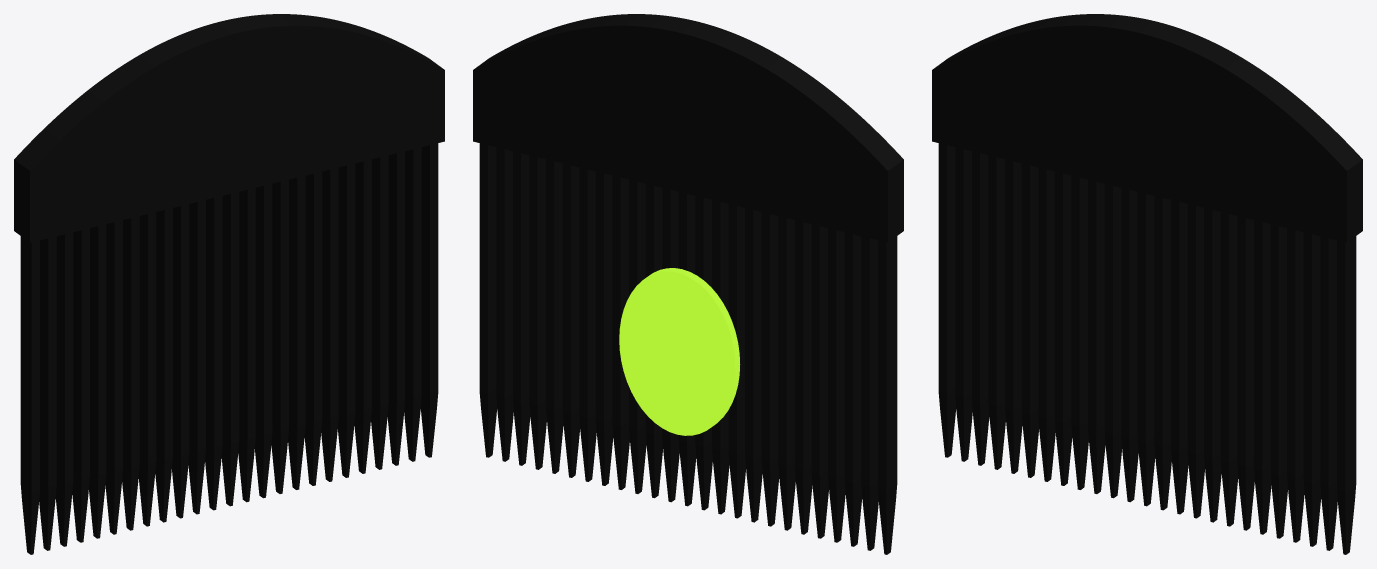
3 views of the same model, side by side, from view 1: azimuth 30°, elevation 25°; view 2: azimuth 150°, elevation 25°; view 3: azimuth 330°, elevation 25° (orthographic).
Parts seen in each view (by area): view 1: kushi_spine, kushi_tooth01, kushi_tooth25, kushi_tooth03, kushi_tooth15, kushi_tooth20, kushi_tooth08, kushi_tooth13, kushi_tooth18, kushi_tooth07, kushi_tooth02, kushi_tooth04 (+14 smaller); view 2: kushi_spine, kushi_light, kushi_tooth01, kushi_tooth25, kushi_tooth03, kushi_tooth20, kushi_tooth08, kushi_tooth18, kushi_tooth07, kushi_tooth02, kushi_tooth04, kushi_tooth09 (+15 smaller); view 3: kushi_spine, kushi_tooth25, kushi_tooth01, kushi_tooth06, kushi_tooth11, kushi_tooth23, kushi_tooth18, kushi_tooth08, kushi_tooth13, kushi_tooth19, kushi_tooth09, kushi_tooth14 (+14 smaller).
Boxes of the visible parts, x1,y1,x2,y2 form: kushi_spine: [14, 14, 444, 242]; kushi_tooth01: [20, 236, 39, 554]; kushi_tooth25: [420, 143, 438, 457]; kushi_tooth03: [55, 232, 73, 546]; kushi_tooth15: [255, 184, 272, 498]; kushi_tooth20: [337, 163, 355, 477]; kushi_tooth08: [138, 212, 156, 526]; kushi_tooth13: [221, 192, 239, 506]; kushi_tooth18: [304, 171, 322, 485]; kushi_tooth07: [122, 216, 139, 530]; kushi_tooth02: [39, 236, 56, 550]; kushi_tooth04: [72, 228, 89, 542]; kushi_spine: [473, 14, 903, 242]; kushi_light: [619, 268, 740, 435]; kushi_tooth01: [878, 236, 897, 554]; kushi_tooth25: [479, 143, 497, 457]; kushi_tooth03: [844, 232, 862, 546]; kushi_tooth20: [562, 163, 580, 477]; kushi_tooth08: [761, 212, 779, 526]; kushi_tooth18: [595, 171, 613, 485]; kushi_tooth07: [778, 216, 795, 530]; kushi_tooth02: [861, 236, 878, 550]; kushi_tooth04: [828, 228, 845, 542]; kushi_tooth09: [745, 208, 762, 522]; kushi_spine: [932, 14, 1362, 242]; kushi_tooth25: [1337, 236, 1356, 554]; kushi_tooth01: [938, 143, 956, 457]; kushi_tooth06: [1021, 163, 1039, 477]; kushi_tooth11: [1104, 184, 1121, 498]; kushi_tooth23: [1303, 232, 1321, 546]; kushi_tooth18: [1220, 212, 1238, 526]; kushi_tooth08: [1054, 171, 1072, 485]; kushi_tooth13: [1137, 192, 1155, 506]; kushi_tooth19: [1237, 216, 1254, 530]; kushi_tooth09: [1071, 175, 1088, 489]; kushi_tooth14: [1154, 196, 1171, 510].
Size of the model in its own units: 1.5 by 1.65 by 0.12.
